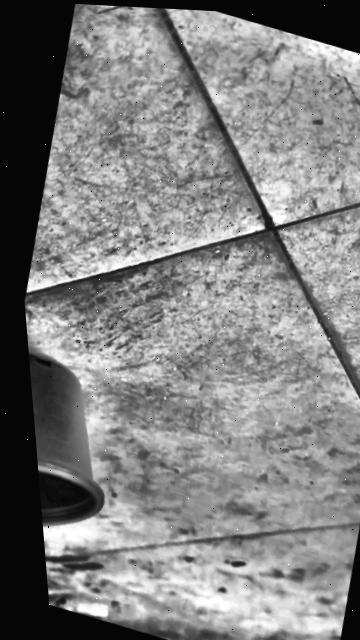pot: (29, 351, 138, 558)
